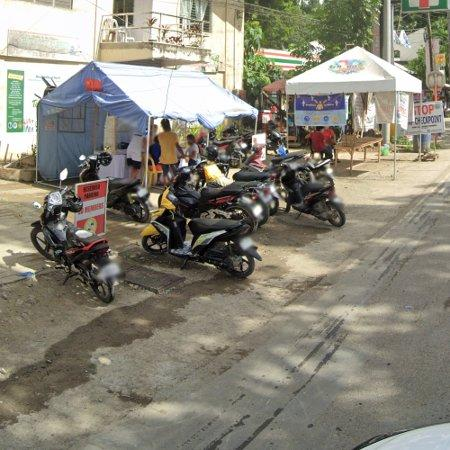motorcycles: (141, 186, 262, 278), (30, 188, 121, 303)
